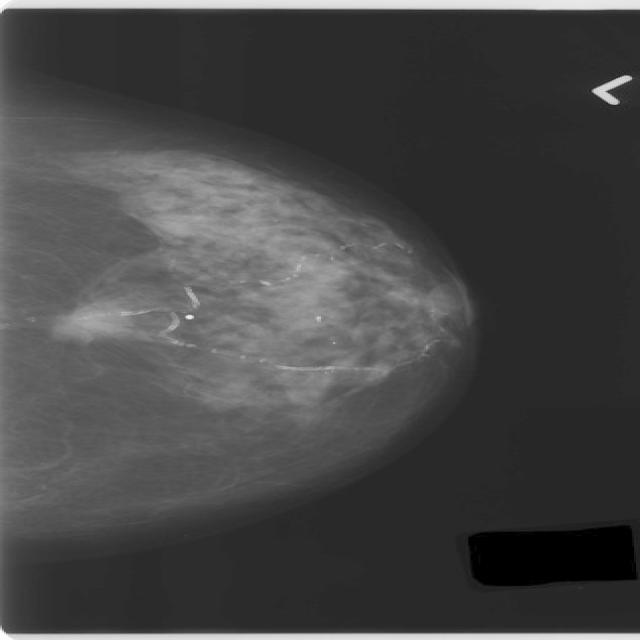tumour: (46, 302, 132, 342)
